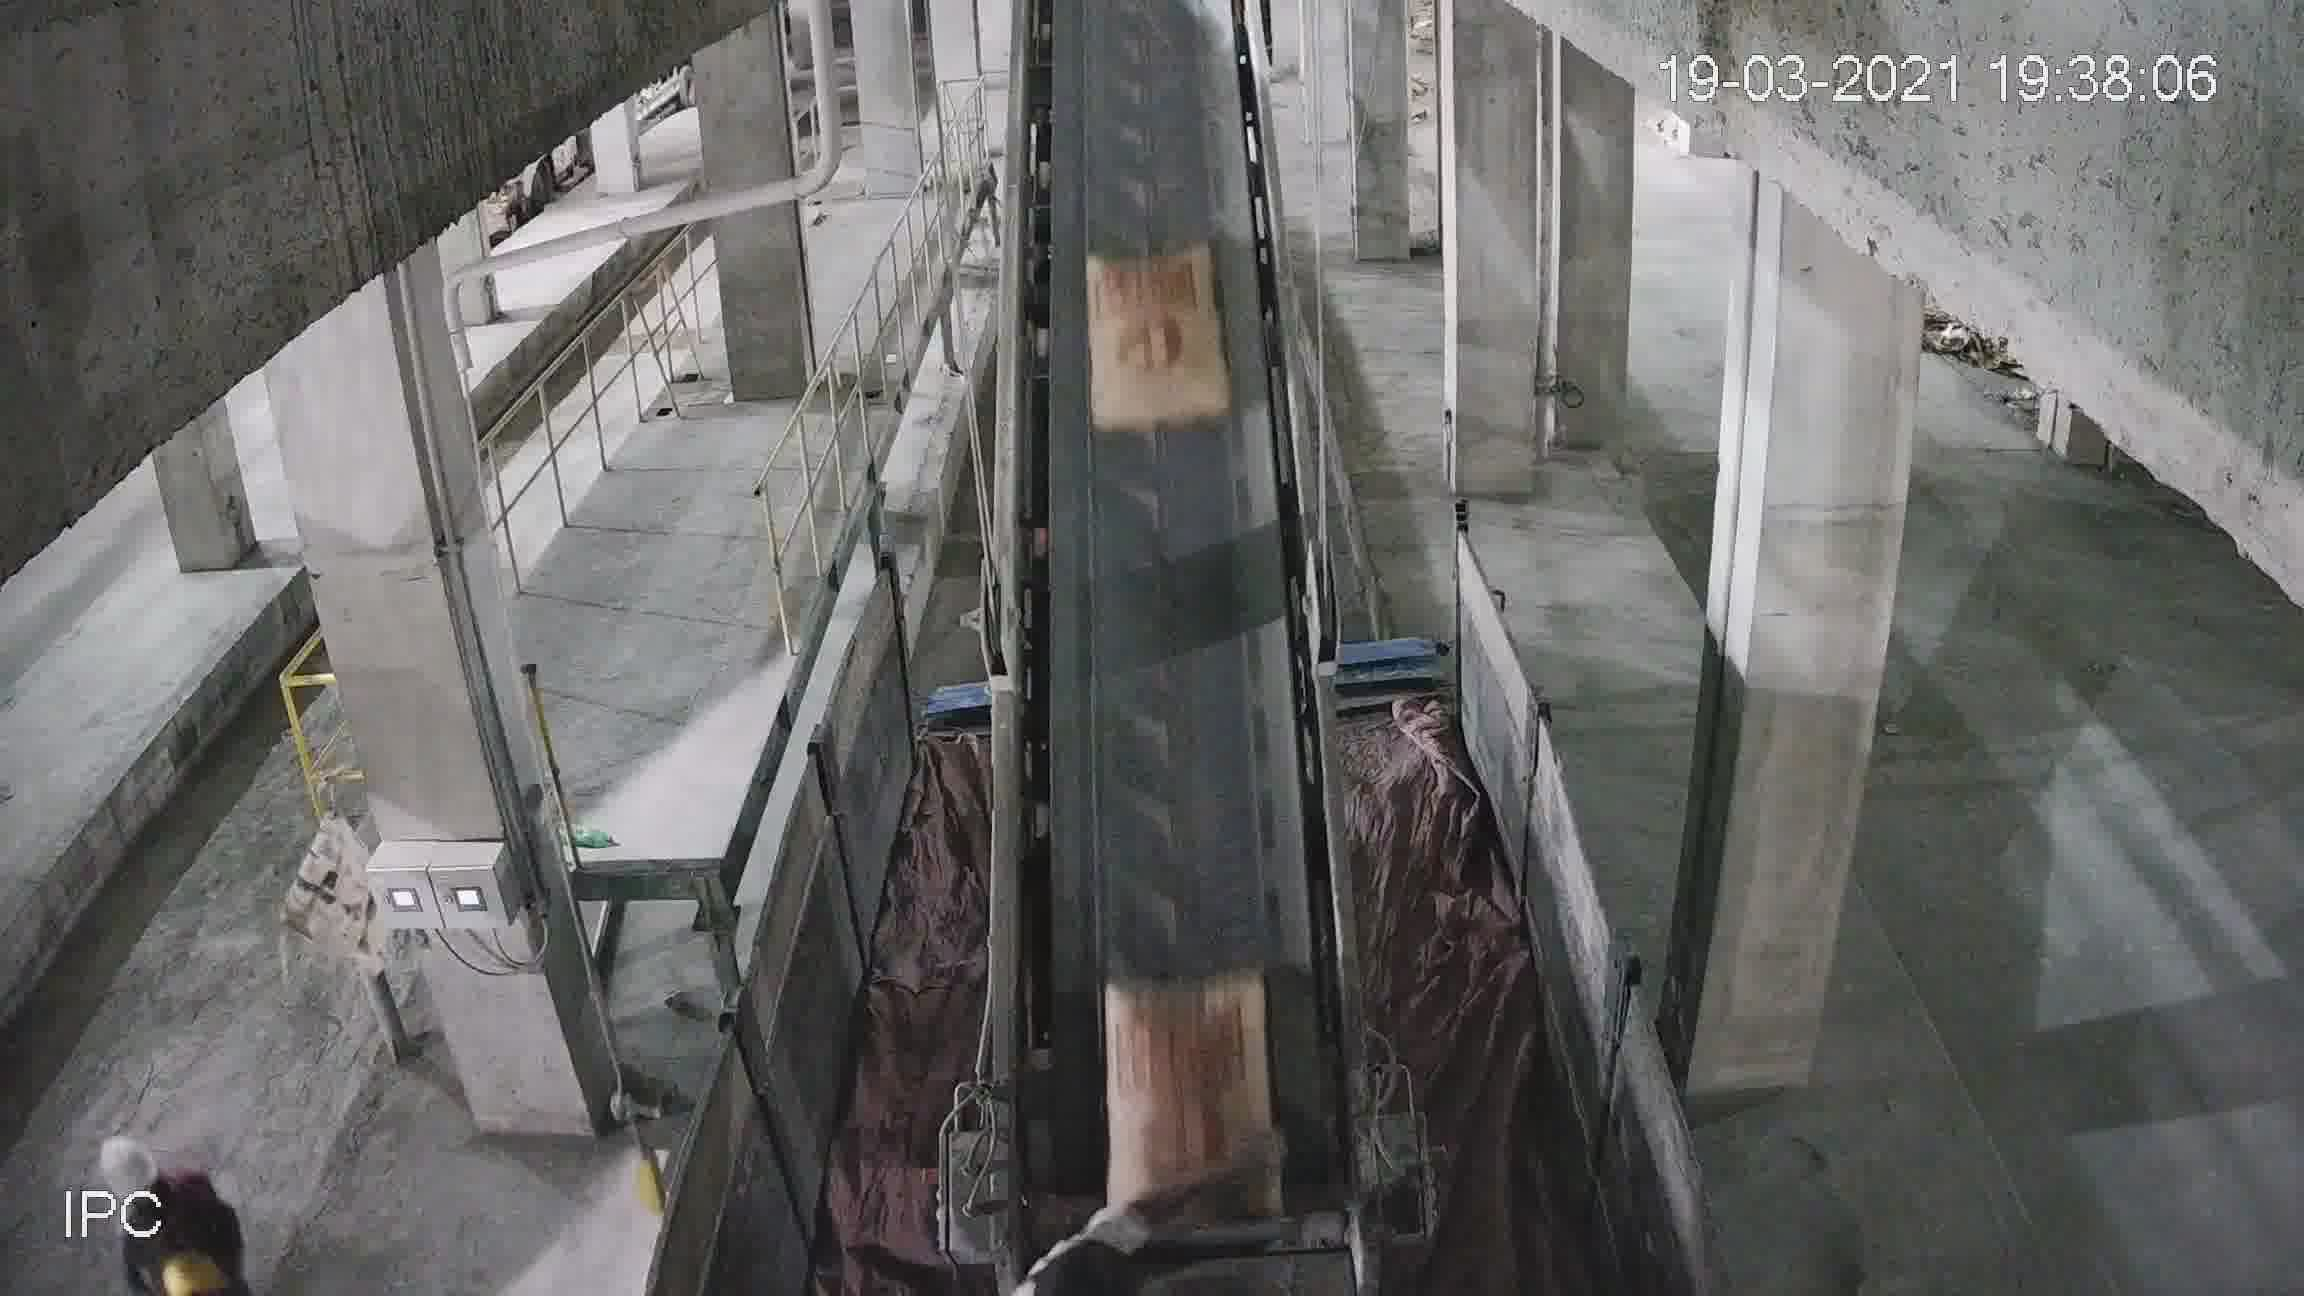bag: (1105, 975, 1266, 1199), (1082, 256, 1223, 429)
belt: (984, 2, 1340, 1108)
